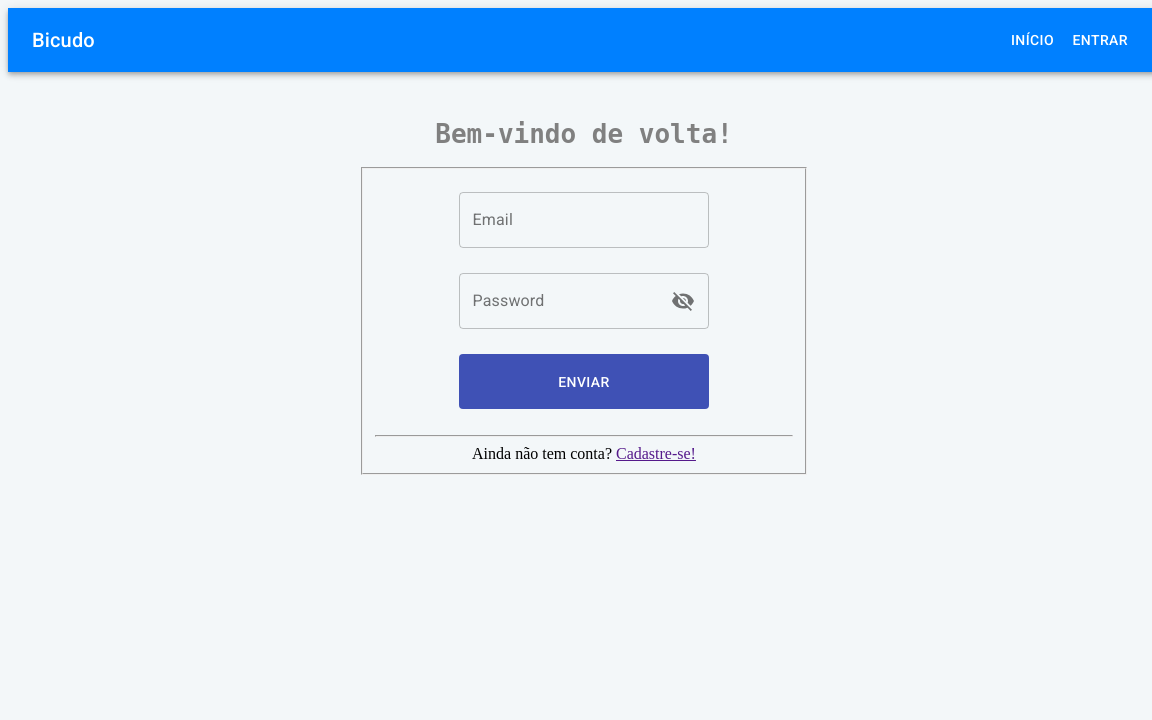
Test: Testes da Tela de Login › Login Vazio
The image size is (1152, 720).
Click the button "Enviar" at x=585, y=382, box [459,354,710,409]
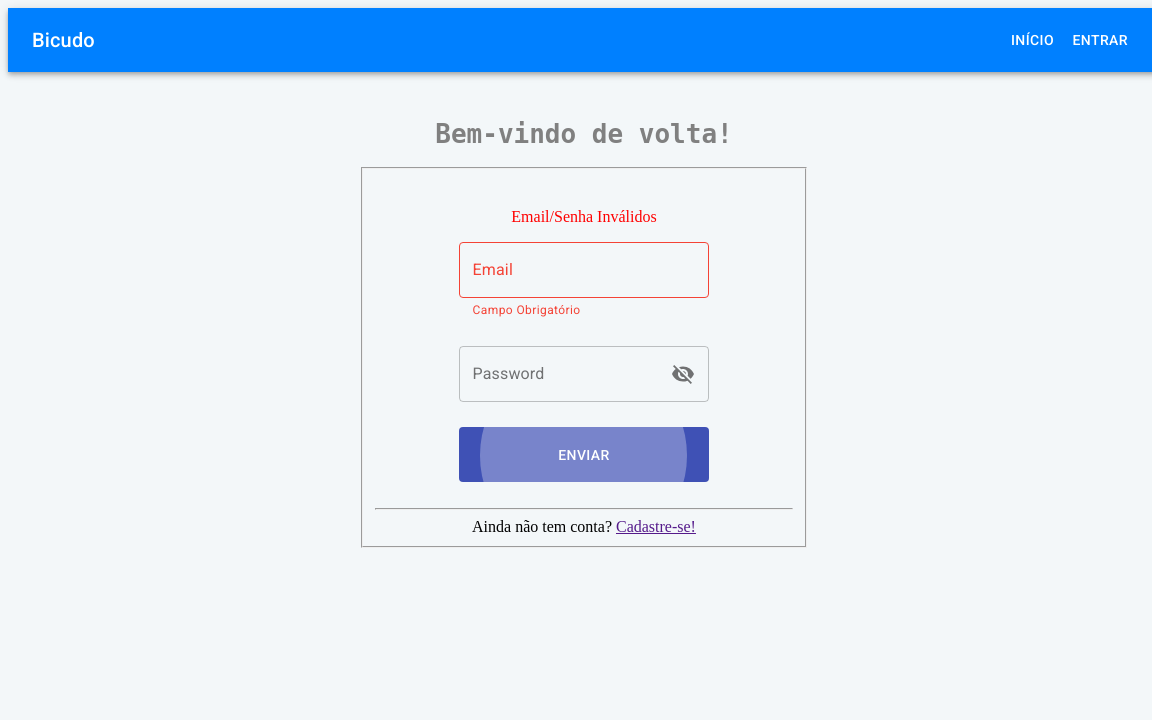
Expected: the text "Campo Obrigatório" is shown, [473,303,581,317]
